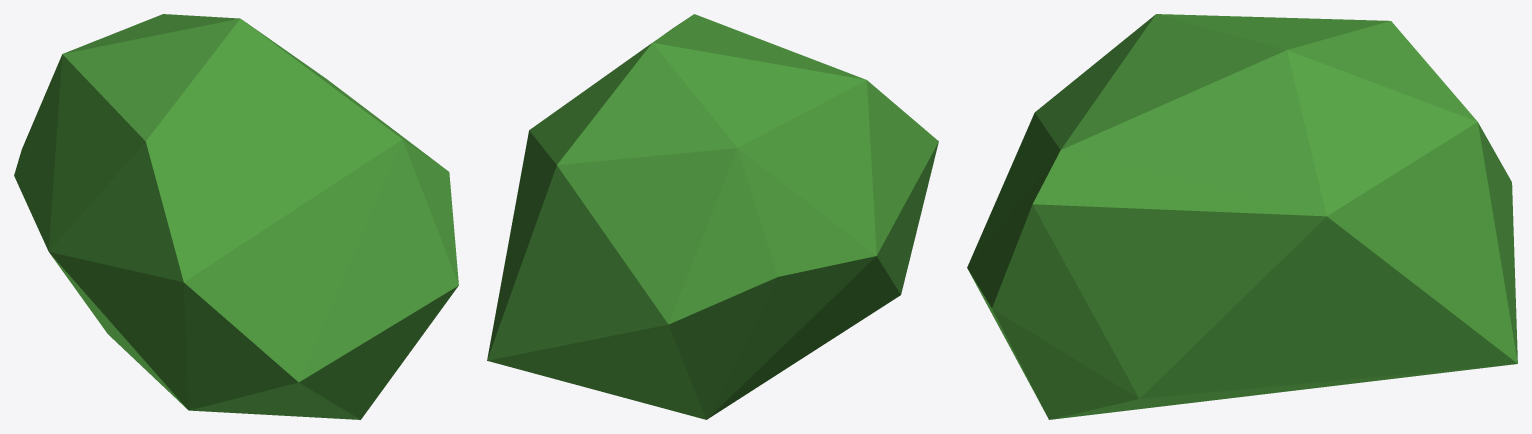
The model's file is grass2.glb.
The picture shows the model from 3 angles, left to right: view 1: azimuth 30°, elevation 25°; view 2: azimuth 150°, elevation 25°; view 3: azimuth 270°, elevation 25°; orthographic projection. The views are drawn at different scales.
Parts seen in each view (by area): view 1: Hedge2; view 2: Hedge2; view 3: Hedge2.
Part boxes in pixels (left/top/right/bottom): Hedge2: left=14, top=14, right=458, bottom=419; Hedge2: left=487, top=14, right=938, bottom=419; Hedge2: left=967, top=14, right=1517, bottom=419.
Size of the model in its own units: 0.6022 by 0.5941 by 0.8178.
